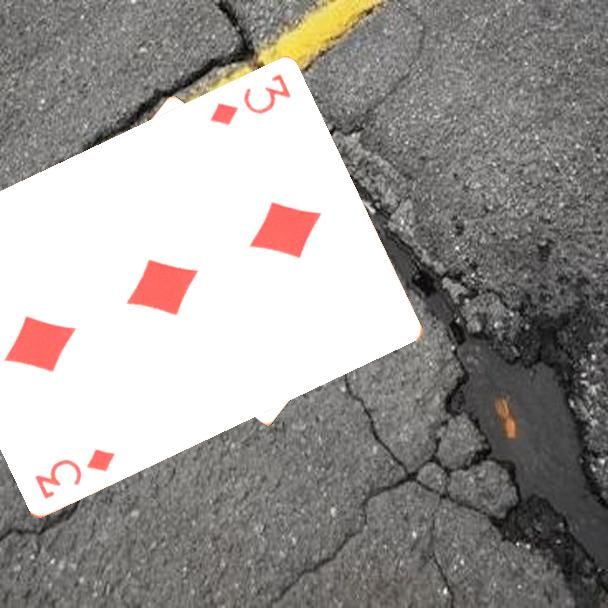d03: (205, 71, 294, 130), (31, 445, 118, 503)
